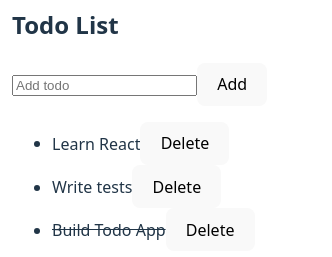
Test: TodoList Component › deletes a todo
This screenshot has width=332, height=257.
Click the button "Delete" next to "Write tests" at (177, 186), box x1=132 y1=165 x2=221 y2=208
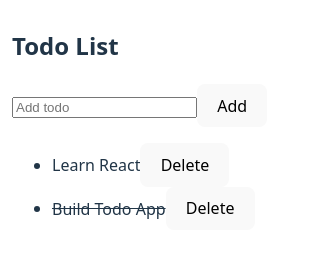
Expected: the list item "Write tests" is gone
